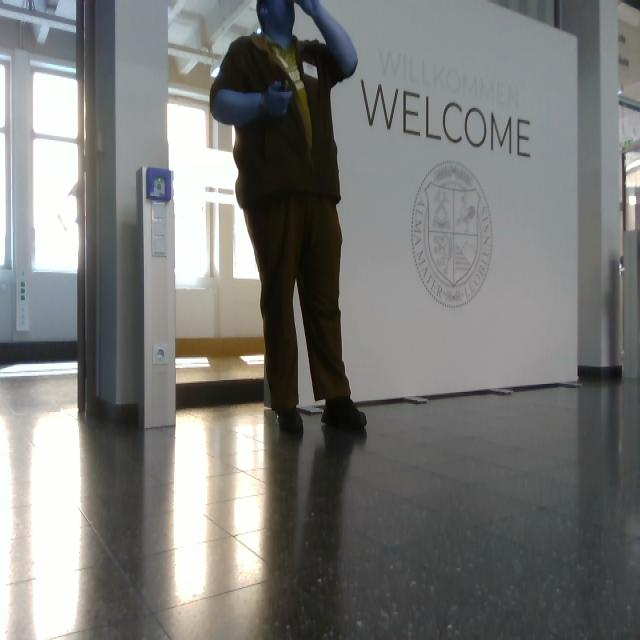door: (166, 1, 581, 409), (139, 165, 177, 429)
light bulb: (264, 80, 293, 117), (58, 195, 78, 231), (210, 65, 221, 78)
person: (209, 1, 368, 434)
pillar: (79, 1, 177, 429)
tiled floor: (2, 365, 639, 638)
